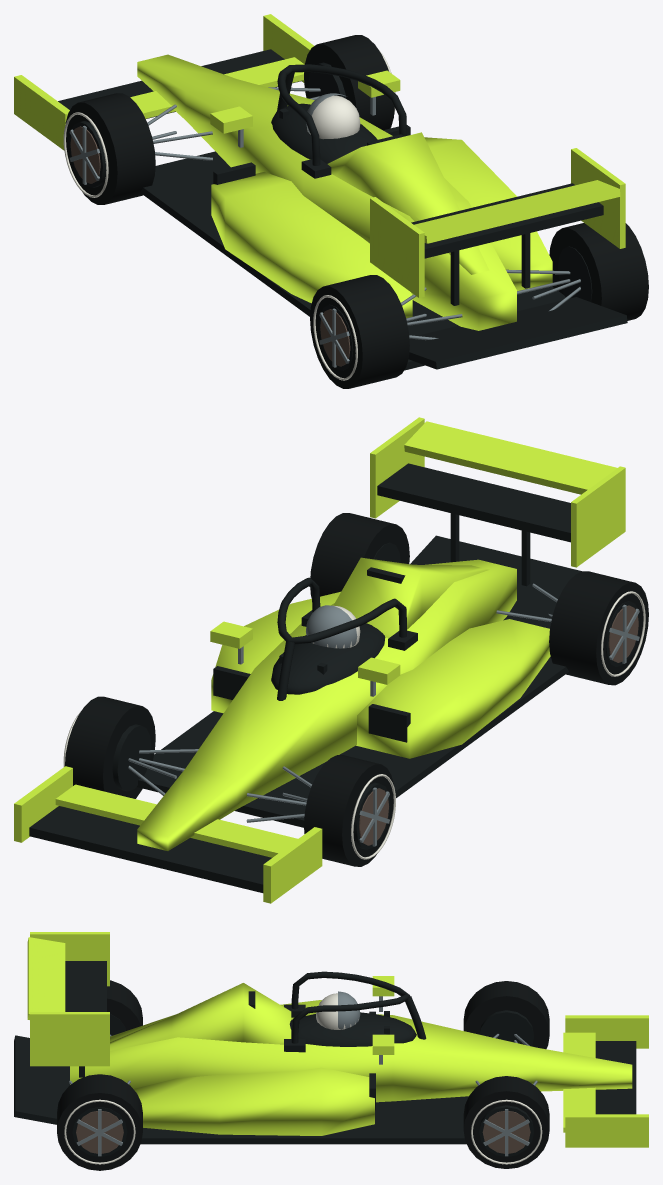
File: al02-original.glb
3 renders of one model, top to bottom at view 1: azimuth 30°, elevation 25°; view 2: azimuth 150°, elevation 25°; view 3: azimuth 270°, elevation 25°, orthographic. The views are drawn at different scales.
Visible parts, largest first — view 1: object 1, object 4, object 12, object 60, object 3, object 2, object 32, object 74, object 8, object 31, object 27, object 46 (+22 smaller); view 2: object 1, object 4, object 21, object 2, object 26, object 60, object 31, object 32, object 12, object 46, object 74, object 3 (+17 smaller); view 3: object 1, object 8, object 2, object 12, object 74, object 29, object 46, object 3, object 32, object 24, object 31, Chassis-mounted three-point halo (+18 smaller).
Boxes of the visible parts, x1,y1,x2,y2 form: object 1: (137,54,516,330); object 4: (211,172,412,318); object 12: (327,132,489,274); object 60: (310,275,409,388); object 3: (408,297,627,369); object 2: (140,151,565,370); object 32: (65,93,155,204); object 74: (549,223,648,320); object 8: (424,137,552,291); object 31: (414,180,620,243); object 27: (370,197,424,297); object 46: (304,35,394,130); object 1: (137,559,516,850); object 4: (356,619,550,758); object 21: (29,806,271,892); object 2: (137,656,568,827); object 26: (377,463,570,542); object 60: (549,571,648,685); object 31: (404,421,617,494); object 32: (304,755,393,866); object 12: (333,557,489,637); object 46: (65,696,155,798); object 74: (310,513,409,598); object 3: (410,535,581,628); object 1: (70,1012,632,1102); object 8: (133,1067,374,1135); object 2: (141,1096,468,1144); object 12: (110,983,291,1050); object 74: (57,1074,142,1170); object 29: (30,1012,109,1066); object 46: (463,1076,549,1168); object 3: (14,1035,69,1124); object 32: (463,981,549,1049); object 24: (565,1114,648,1147); object 31: (27,937,65,1019); Chassis-mounted three-point halo: (284,971,426,1052).
Bounding box in the file's own units: 2.3 × 1.3 × 5.31.
